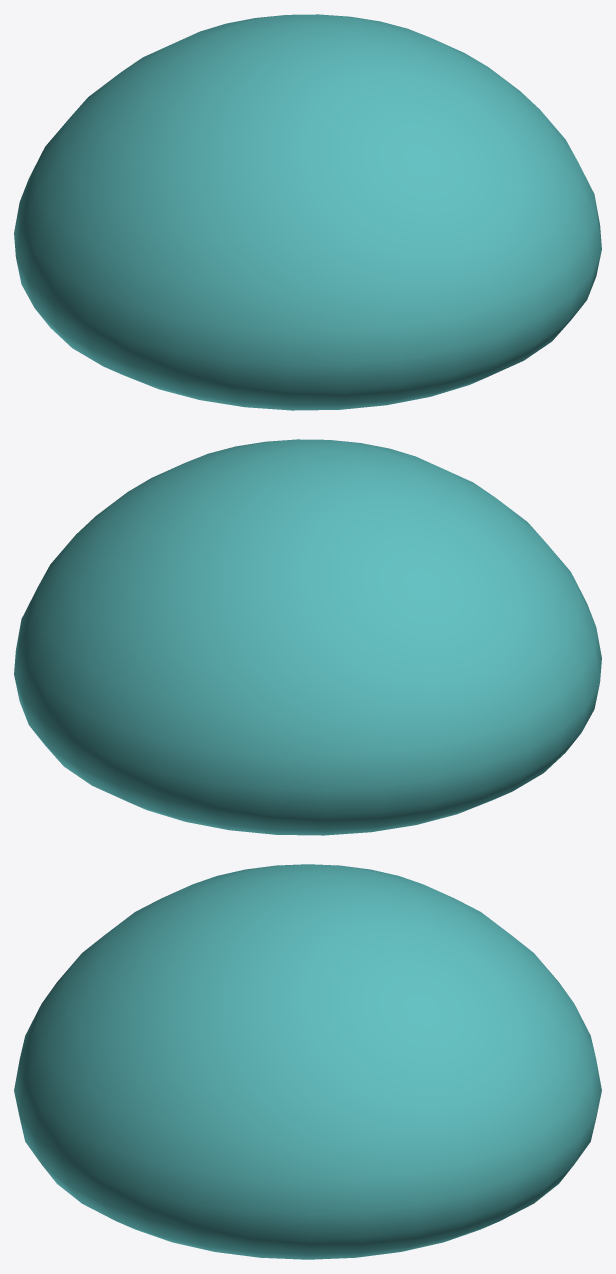
Rendered from Blue.fbx.
The picture shows the model from 3 angles, top to bottom: view 1: azimuth 30°, elevation 25°; view 2: azimuth 150°, elevation 25°; view 3: azimuth 270°, elevation 25°; orthographic projection.
Visible parts, largest first — view 1: Skin1.Blue; view 2: Skin1.Blue; view 3: Skin1.Blue.
Part boxes in pixels (x1=…): Skin1.Blue: x1=14, y1=14, x2=601, y2=410; Skin1.Blue: x1=14, y1=439, x2=601, y2=835; Skin1.Blue: x1=14, y1=864, x2=601, y2=1259.
Bounding box in the file's own units: 200 × 106 × 200.
